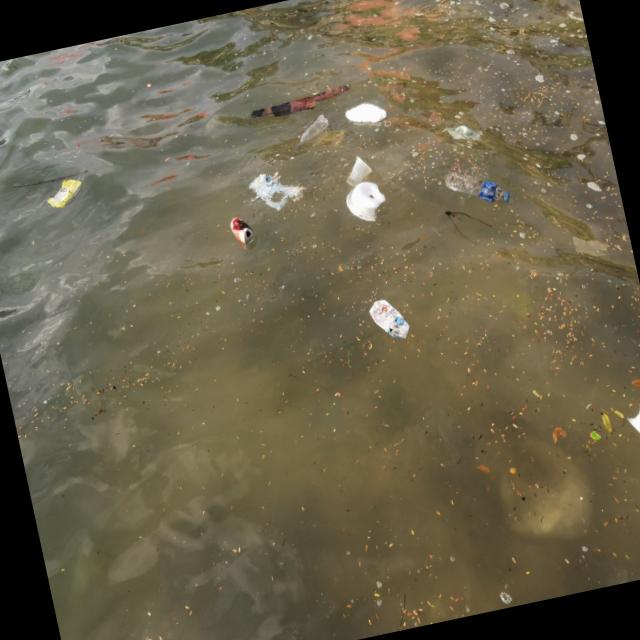can: (231, 216, 256, 248)
foam: (345, 178, 391, 227), (345, 98, 389, 130), (624, 398, 640, 475)
plastic bottle: (290, 114, 335, 150)
